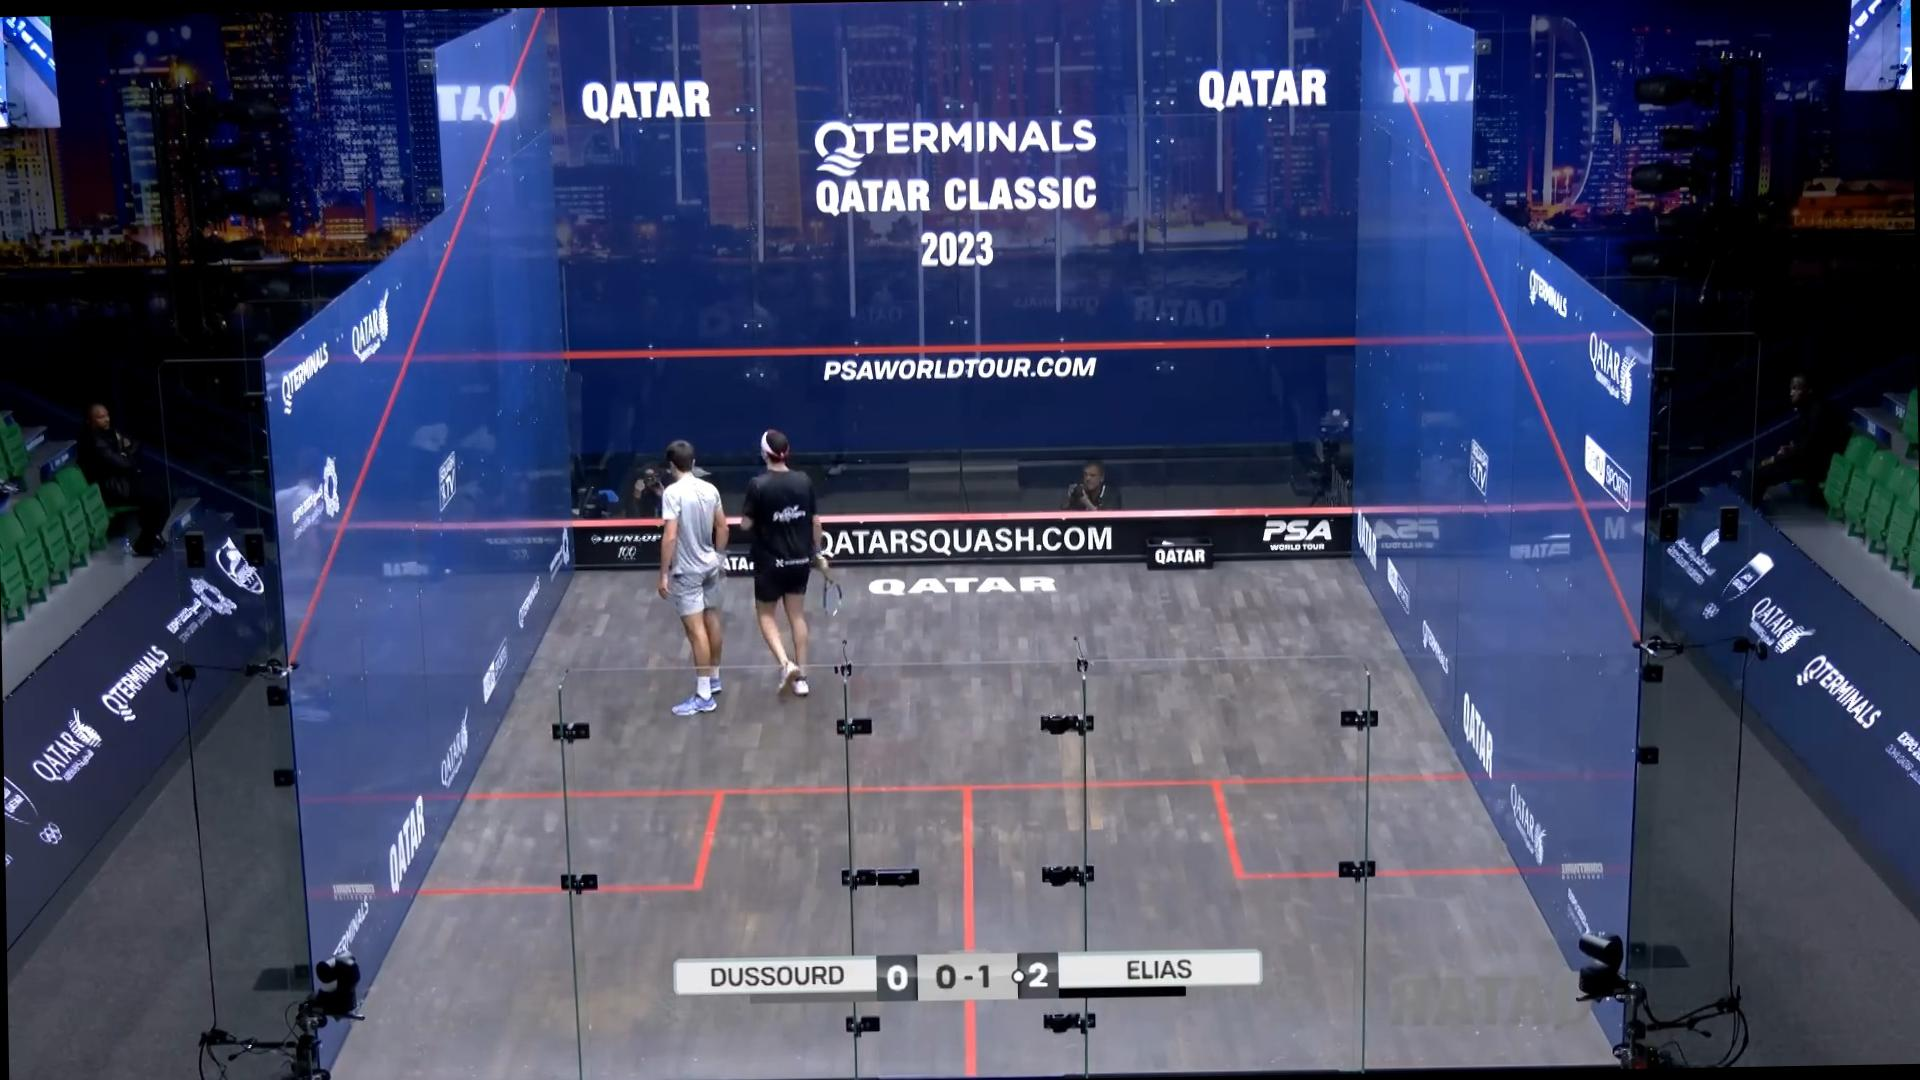Racket: (816, 566, 858, 622)
